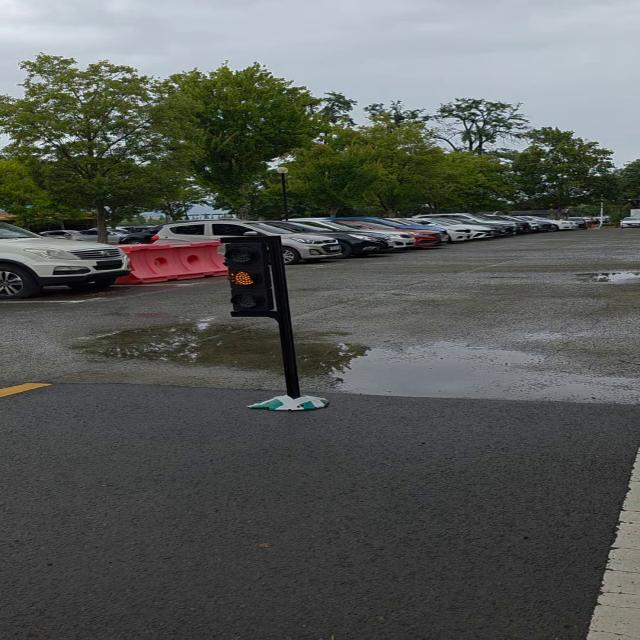yellow: (222, 239, 284, 314)
